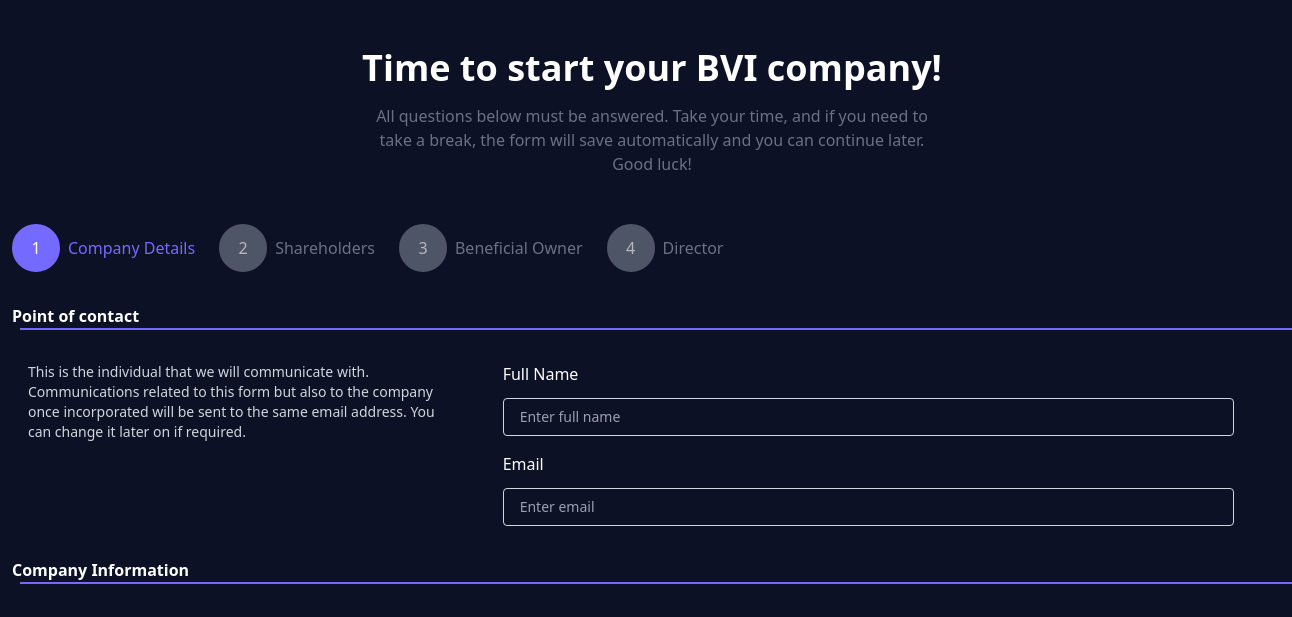
Test case: Testing Home View › testing email with wrong format
Type "korporatio" into the field with test id "email". click: (868, 507)
box: [503, 488, 1234, 526]
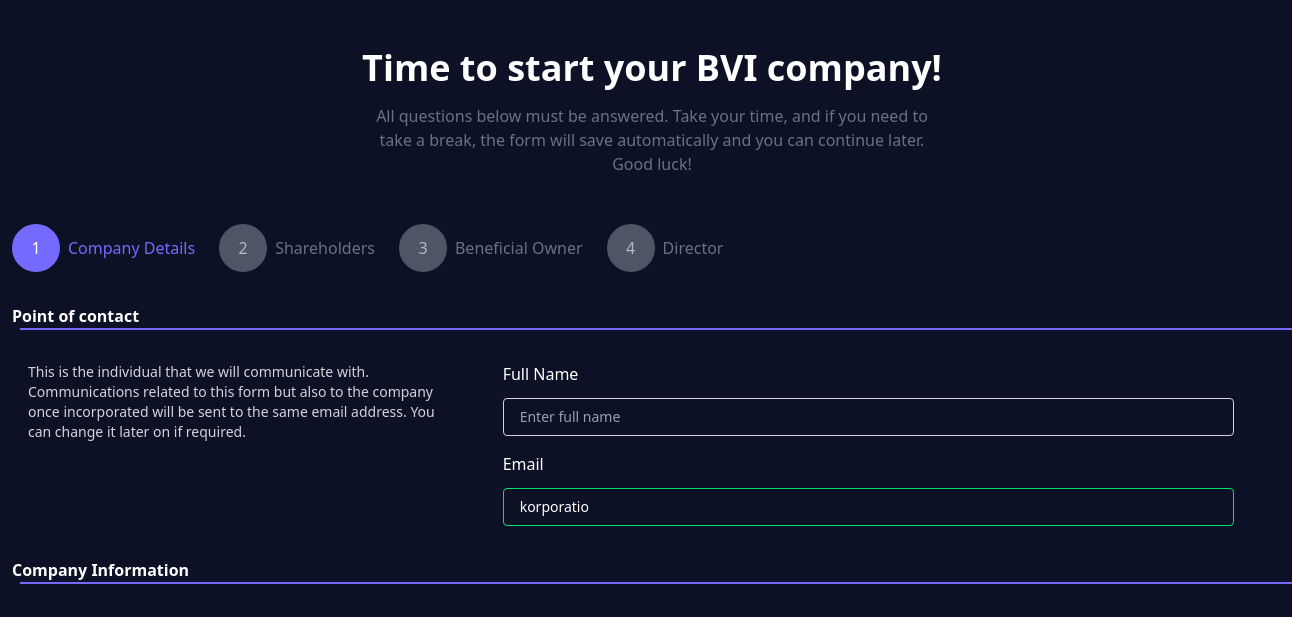
Leave the field with test id "email", box [503, 488, 1234, 526]
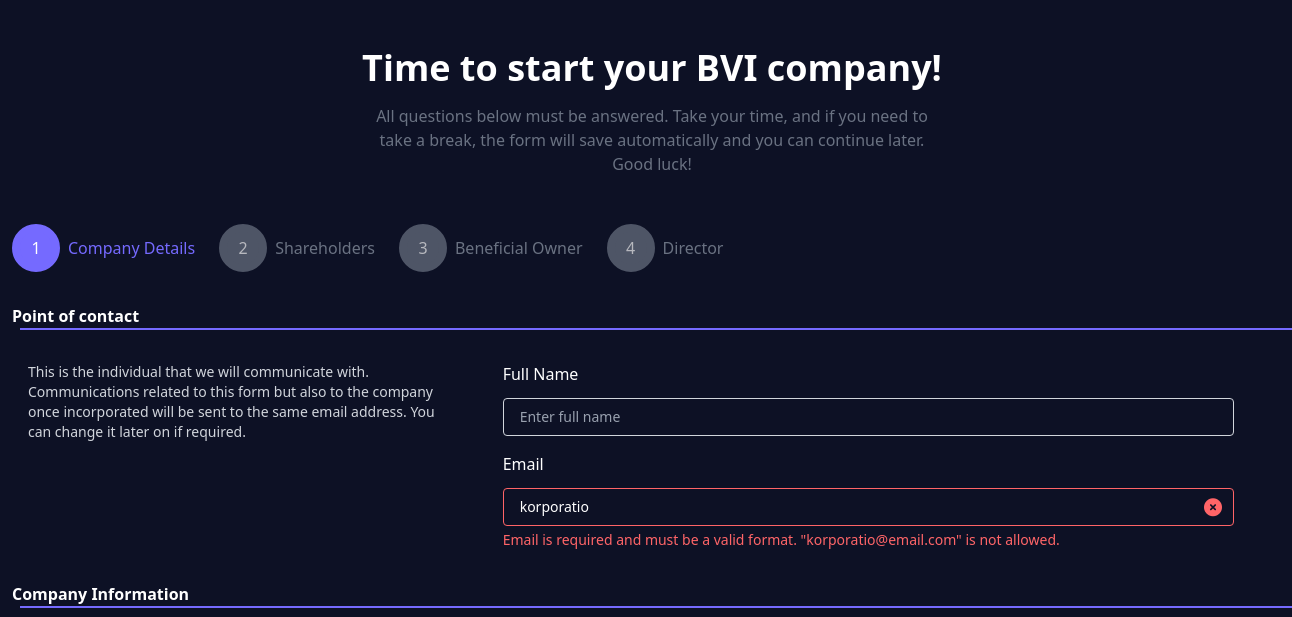
Now the text "Email is required and must be a valid format. \"korporatio@email.com\" is not allowed." is shown, box [503, 530, 1060, 549]
